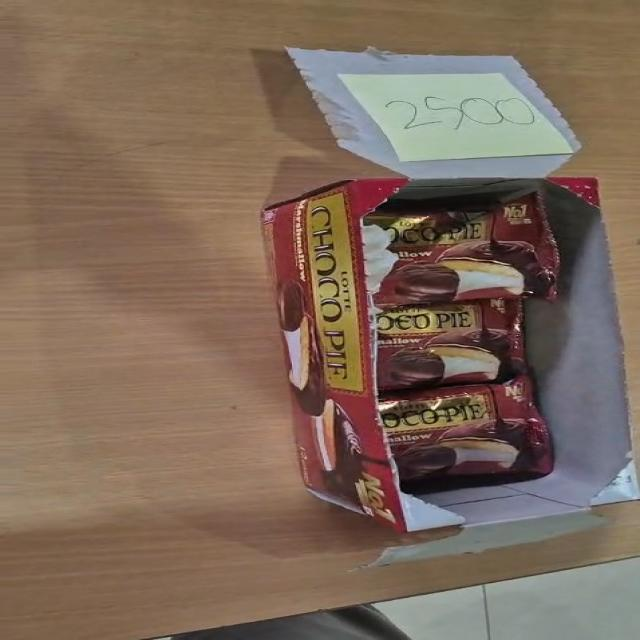Chocopie: (363, 190, 558, 306), (378, 375, 556, 495), (376, 297, 524, 390)
